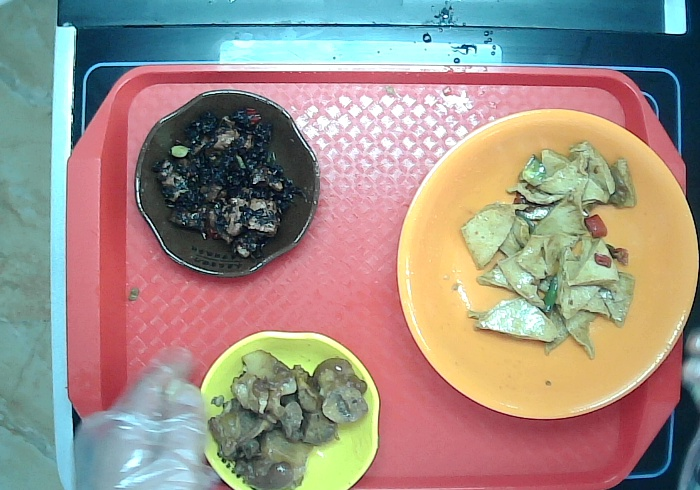YKMZ-Huang_Se_Ao_Bian_Wan: (193, 318, 387, 490)
YKMZ-Ju_Se_Tang_Wan: (379, 99, 700, 426)
YKMZ-Ka_Fei_Ao_Bian_Wan: (124, 83, 324, 283)
